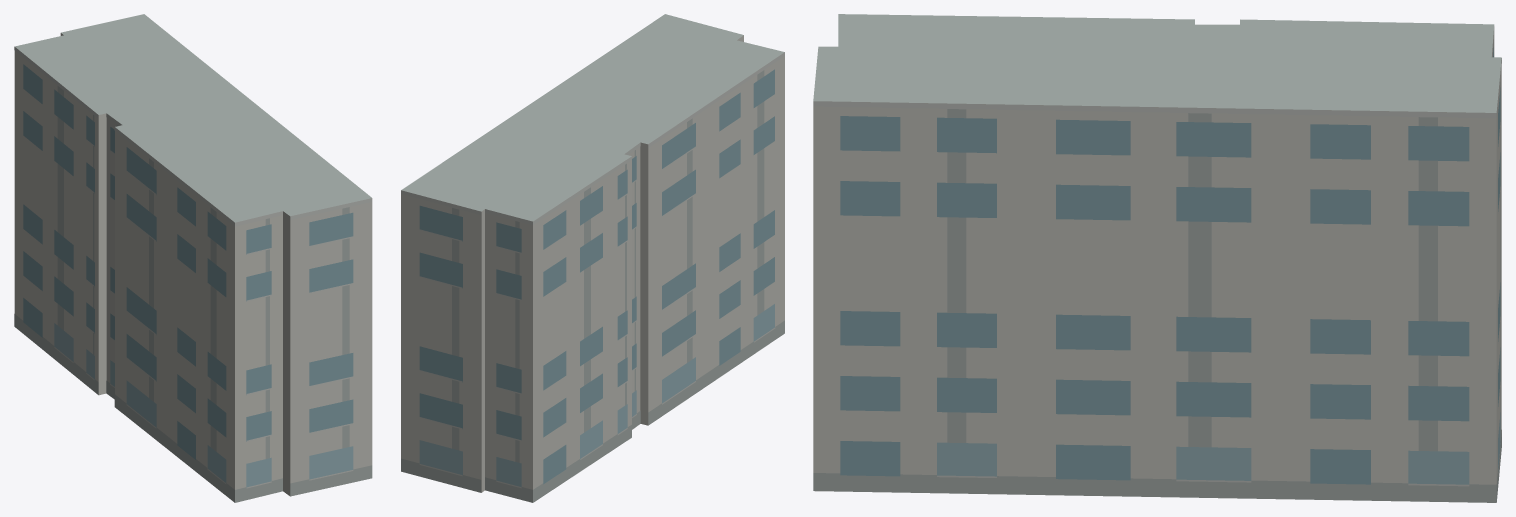
Rendered from survey-upis-32992788.glb.
The picture shows the model from 3 angles, left to right: view 1: azimuth 30°, elevation 25°; view 2: azimuth 150°, elevation 25°; view 3: azimuth 270°, elevation 25°; orthographic projection. The views are drawn at different scales.
Visible parts, largest first — view 1: survey-upis-32992788.tmp; view 2: survey-upis-32992788.tmp; view 3: survey-upis-32992788.tmp.
Part boxes in pixels (x1=…): survey-upis-32992788.tmp: x1=14, y1=14, x2=372, y2=502; survey-upis-32992788.tmp: x1=401, y1=14, x2=784, y2=502; survey-upis-32992788.tmp: x1=813, y1=14, x2=1501, y2=502.
Bounding box in the file's own units: 9.43 × 17.3 × 27.7.
